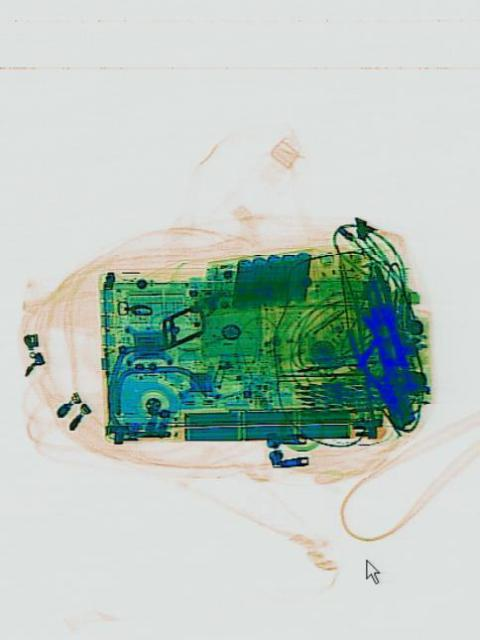Pliers: (338, 309, 411, 423)
